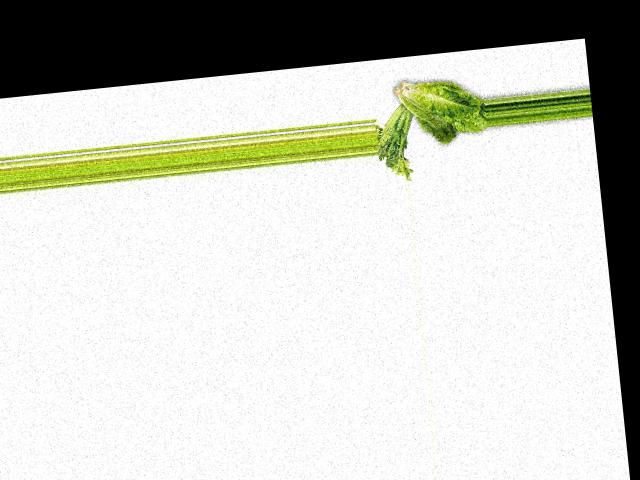lettuce: (388, 76, 490, 156)
